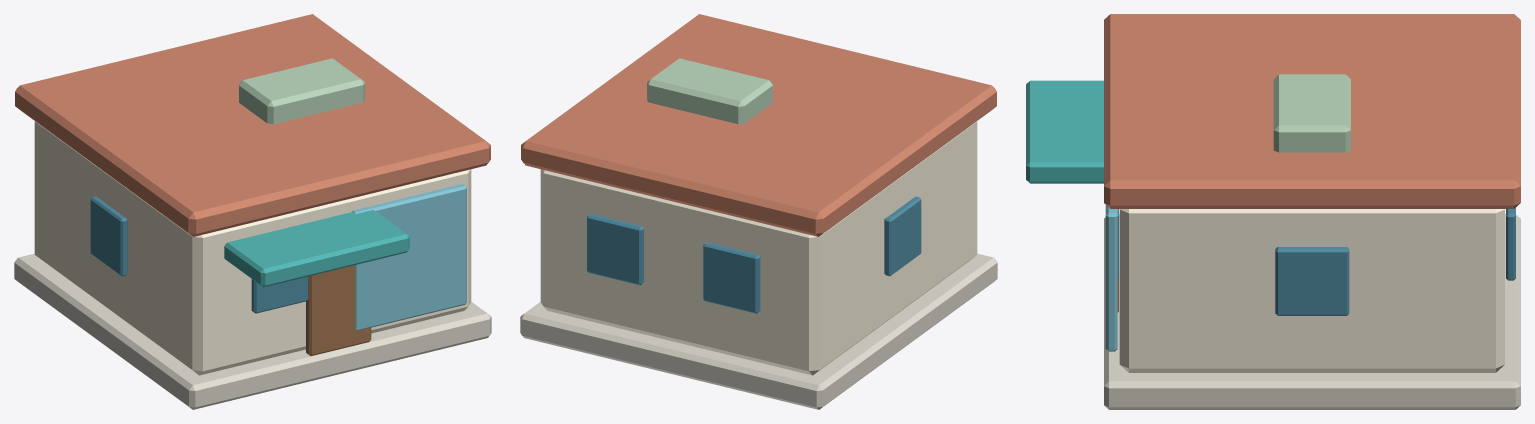
Rendered from RES_LOW_1x1_008.glb.
The picture shows the model from 3 angles, left to right: view 1: azimuth 30°, elevation 25°; view 2: azimuth 150°, elevation 25°; view 3: azimuth 270°, elevation 25°; orthographic projection. The views are drawn at different scales.
Visible parts, largest first — view 1: RES_LOW_1x1_008_Visual; view 2: RES_LOW_1x1_008_Visual; view 3: RES_LOW_1x1_008_Visual.
Boxes of the visible parts, x1=… form: RES_LOW_1x1_008_Visual: x1=14, y1=14, x2=491, y2=409; RES_LOW_1x1_008_Visual: x1=520, y1=14, x2=997, y2=409; RES_LOW_1x1_008_Visual: x1=1026, y1=14, x2=1520, y2=409.
Size of what is drawn, in the model's own units: 1.54 by 1.06 by 1.88.
